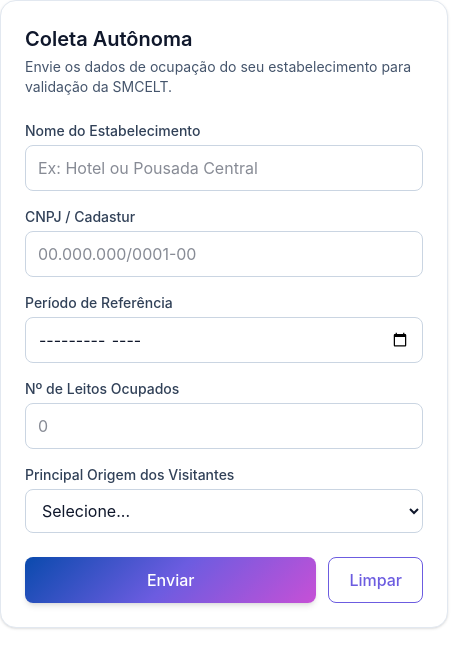
Scenario: ColetaAutonomaForm › deve aplicar máscara no CNPJ progressivamente ao digitar
This screenshot has width=465, height=646.
Type "12345678000195" into the field labelled "CNPJ / Cadastur" at [224, 254], box [25,231,423,277]
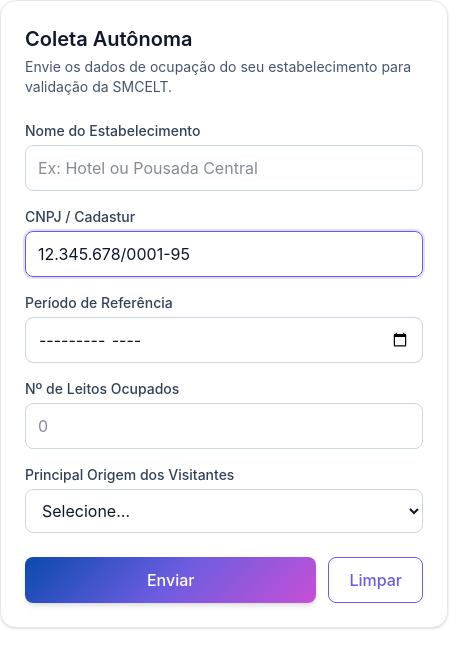
Result: the field labelled "CNPJ / Cadastur" holds "12.345.678/0001-95" at [25,231,423,277]
